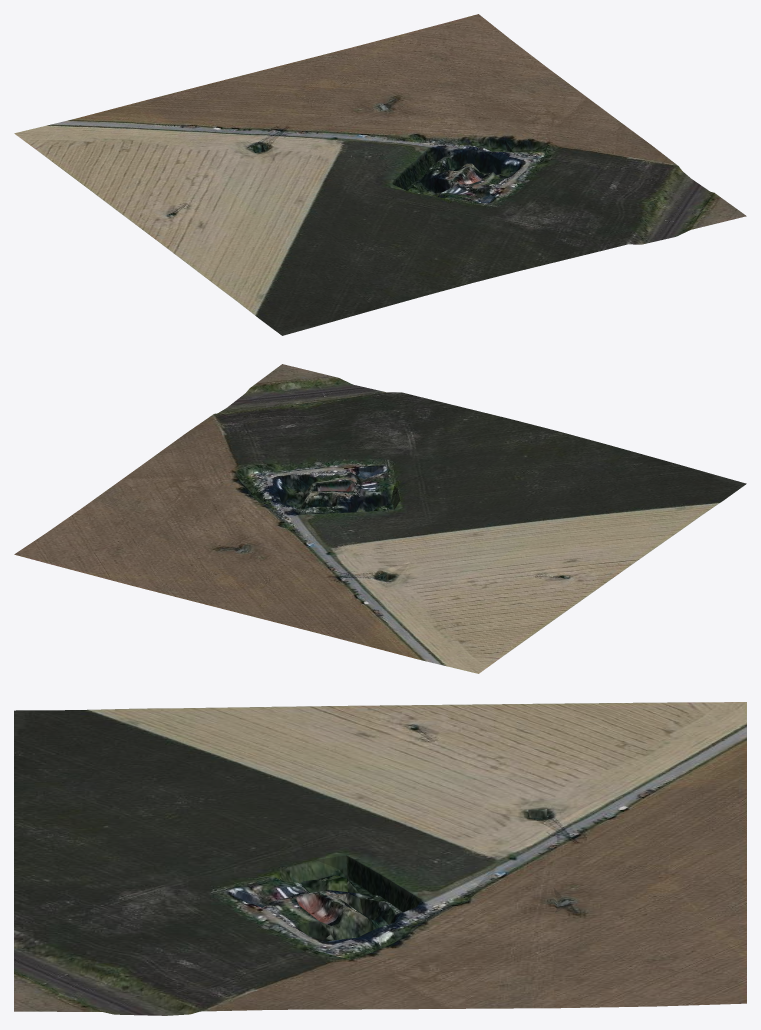
File: map_13_2042_3444.dae
3 renders of one model, top to bottom at view 1: azimuth 30°, elevation 25°; view 2: azimuth 150°, elevation 25°; view 3: azimuth 270°, elevation 25°, orthographic. The views are drawn at different scales.
Parts seen in each view (by area): view 1: Ter0; view 2: Ter0; view 3: Ter0.
Part boxes in pixels (x1,y1,x2,y2): Ter0: (14, 14, 746, 335); Ter0: (14, 364, 746, 673); Ter0: (14, 702, 746, 1015).
Bounding box in the file's own units: 256 × 256 × 16.95.
Materials: 3 (3 with a texture image).
